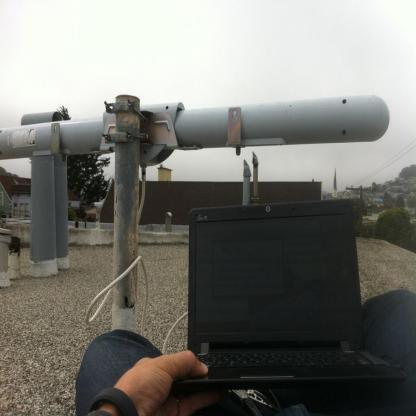board: (171, 195, 407, 390)
